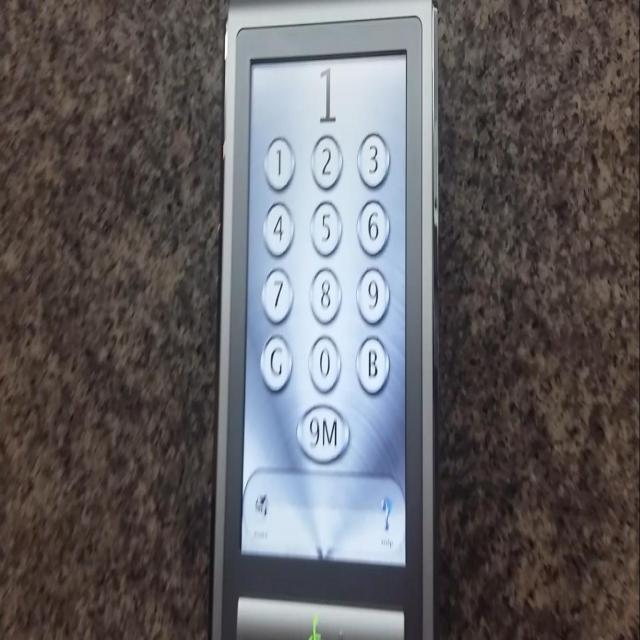0: (305, 330, 343, 396)
1: (261, 131, 296, 193)
2: (308, 130, 343, 192)
3: (354, 128, 391, 191)
4: (260, 197, 296, 259)
5: (307, 196, 343, 258)
6: (355, 196, 391, 258)
7: (259, 263, 295, 325)
8: (306, 263, 343, 326)
9: (355, 263, 391, 326)
9M: (294, 396, 352, 466)
B: (352, 330, 392, 398)
G: (258, 328, 295, 393)
